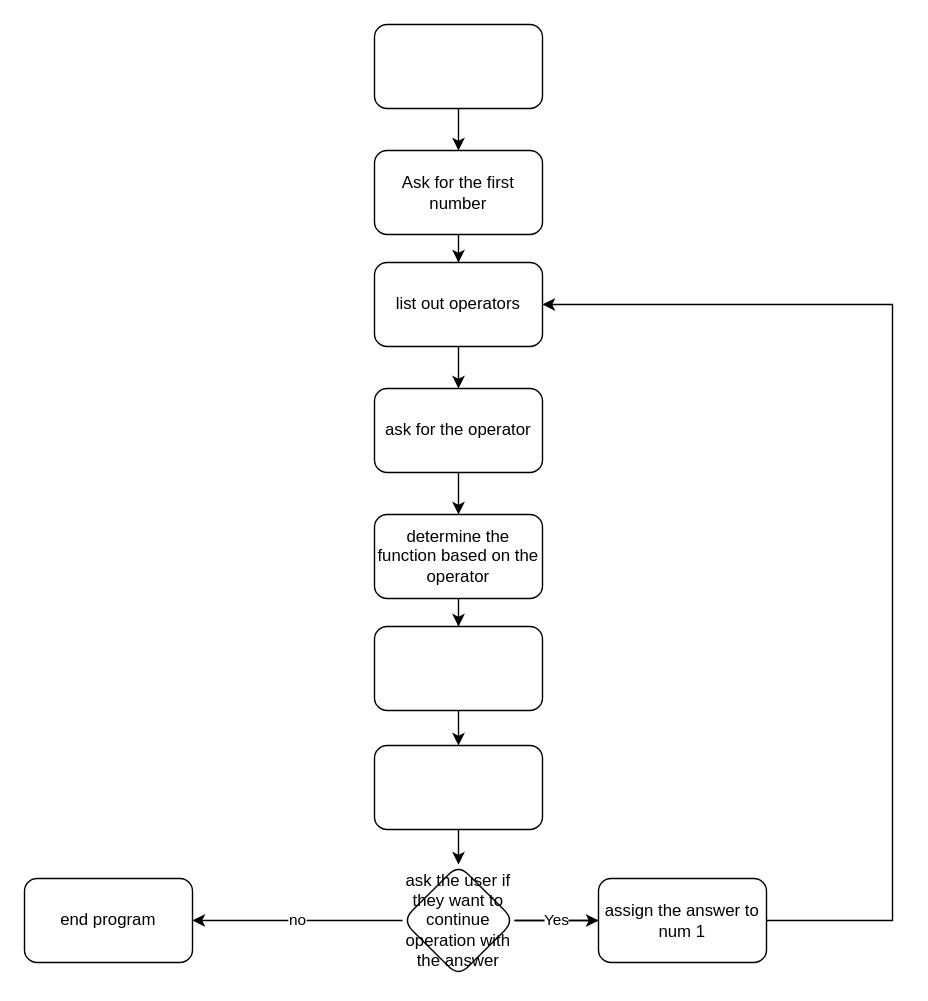
The diagram is 928 pixels wide and 1001 high, and some of its shapes have lost their labels. Each missing label, with the centre of its shape:
ask for the second number: [457,667]
perform operation and display the answer: [457,787]
Start: [457,65]
